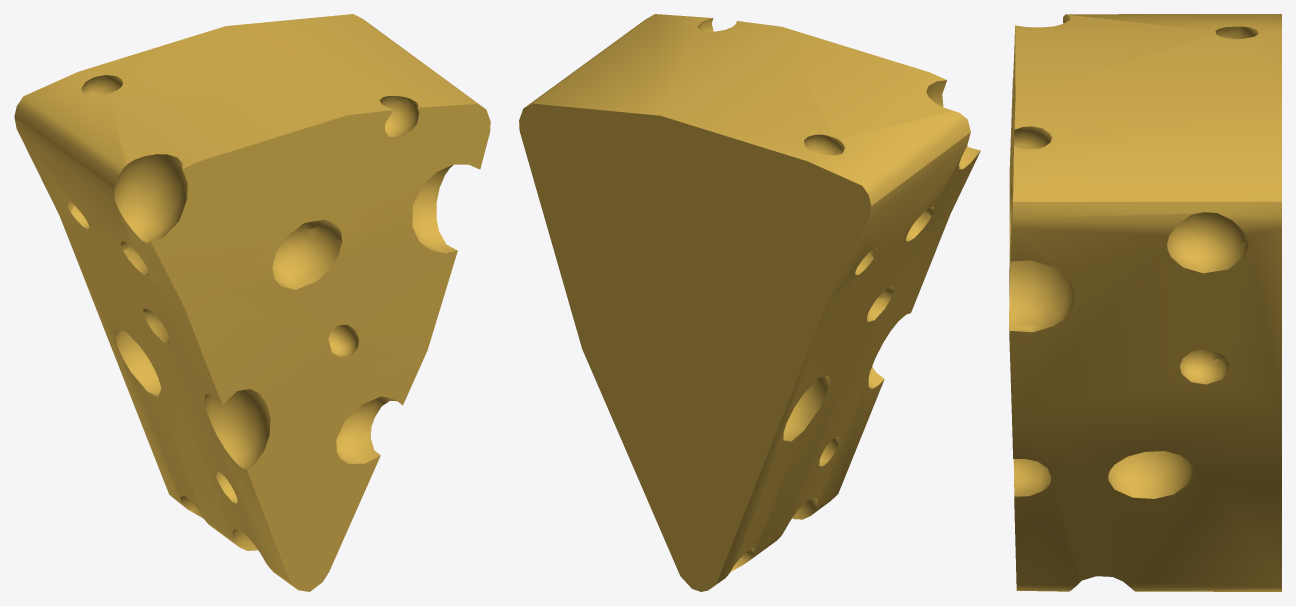
Rendered from cheese.glb.
The picture shows the model from 3 angles, left to right: view 1: azimuth 30°, elevation 25°; view 2: azimuth 150°, elevation 25°; view 3: azimuth 270°, elevation 25°; orthographic projection. The views are drawn at different scales.
Parts seen in each view (by area): view 1: cheese; view 2: cheese; view 3: cheese.
Boxes of the visible parts, bbox=[...] form: cheese: bbox=[14, 14, 490, 591]; cheese: bbox=[519, 14, 980, 591]; cheese: bbox=[1009, 14, 1281, 591].
Bounding box in the file's own units: 1.57 × 1.98 × 0.959.
